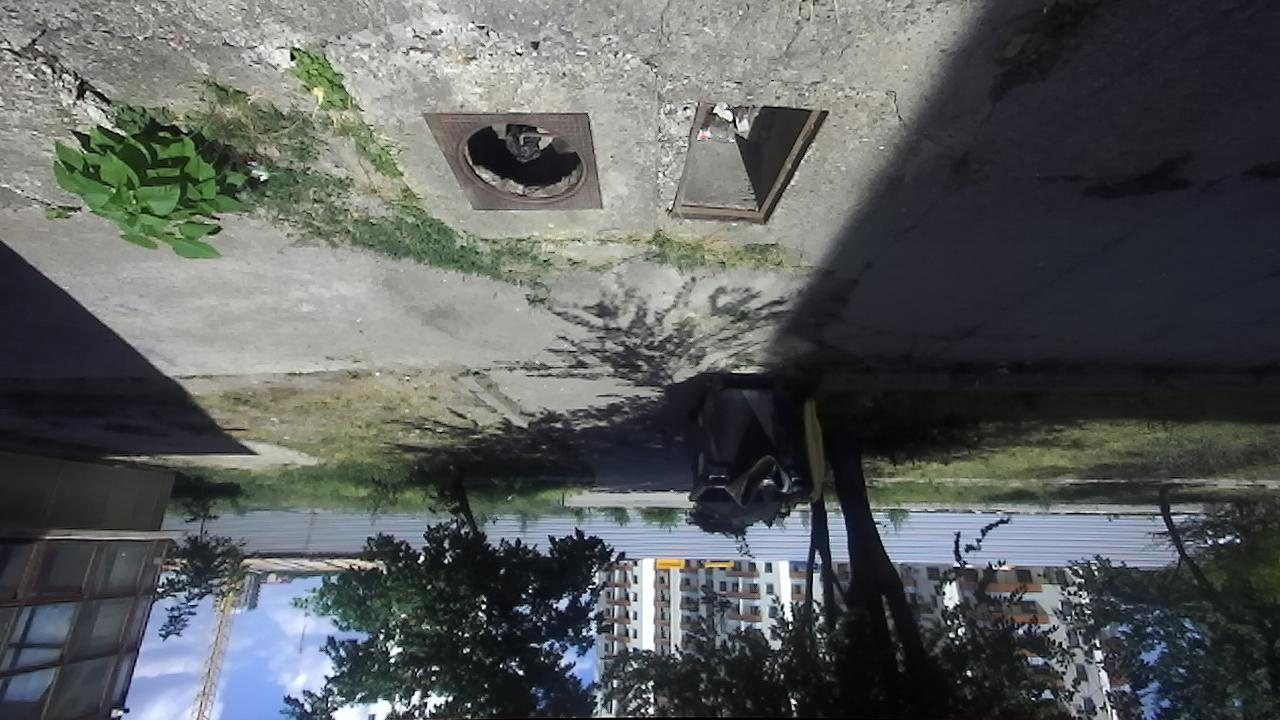drain: (668, 104, 829, 230), (450, 114, 589, 208)
